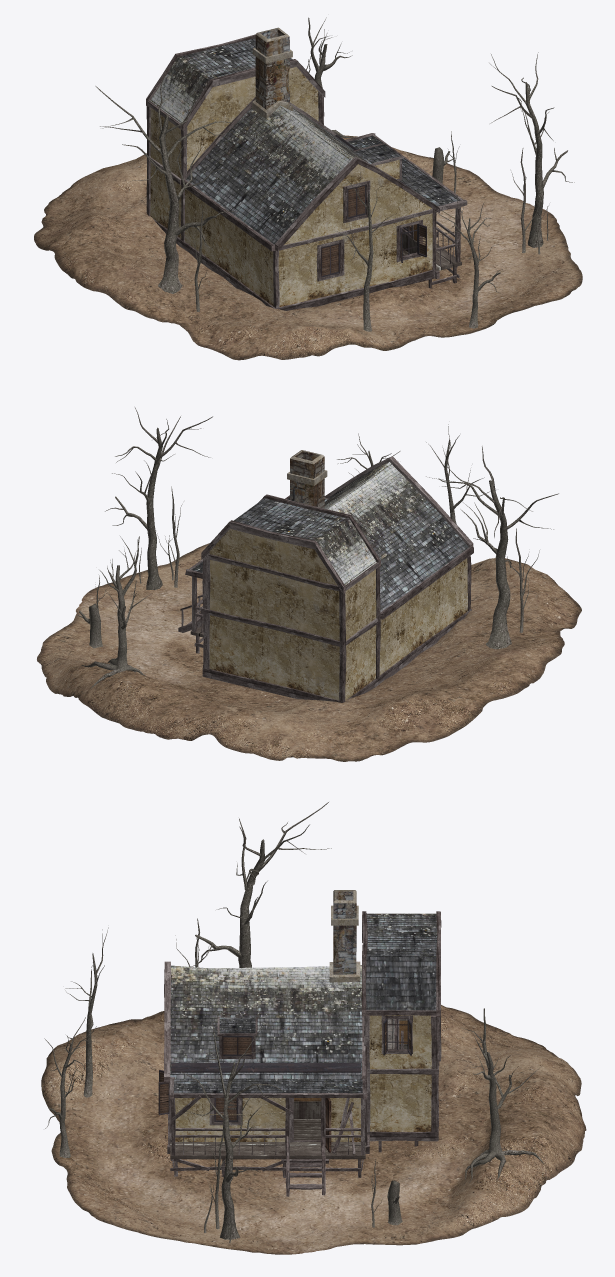
File: RustyHouse.fbx
The picture shows the model from 3 angles, top to bottom: view 1: azimuth 30°, elevation 25°; view 2: azimuth 150°, elevation 25°; view 3: azimuth 270°, elevation 25°; orthographic projection. The views are drawn at different scales.
Visible parts, largest first — view 1: Ground, Walls, Roof, Beames, Tree, Chimney, Windows; view 2: Ground, Walls, Roof, Beames, Tree, Chimney; view 3: Ground, Roof, Beames, Tree, Walls, OutSide_Floor, Chimney, Windows, Inside_Floor.
Part boxes in pixels (x1,y1,x2,y2): Ground: [34, 135, 582, 360]; Walls: [150, 67, 432, 306]; Roof: [150, 38, 460, 244]; Beames: [146, 34, 467, 310]; Tree: [95, 17, 574, 331]; Chimney: [252, 27, 293, 118]; Windows: [320, 184, 426, 277]; Ground: [37, 543, 581, 761]; Walls: [209, 529, 467, 700]; Roof: [191, 462, 468, 612]; Beames: [178, 456, 473, 702]; Tree: [77, 407, 558, 688]; Chimney: [287, 450, 327, 508]; Ground: [41, 1005, 586, 1254]; Roof: [170, 913, 437, 1093]; Beames: [164, 911, 441, 1196]; Tree: [44, 802, 543, 1242]; Walls: [175, 1015, 431, 1141]; OutSide_Floor: [170, 1142, 365, 1159]; Chimney: [329, 890, 360, 982]; Windows: [158, 1018, 411, 1121]; Inside_Floor: [216, 1101, 320, 1140].
Bounding box in the file's own units: 3260 × 1477 × 3199.
